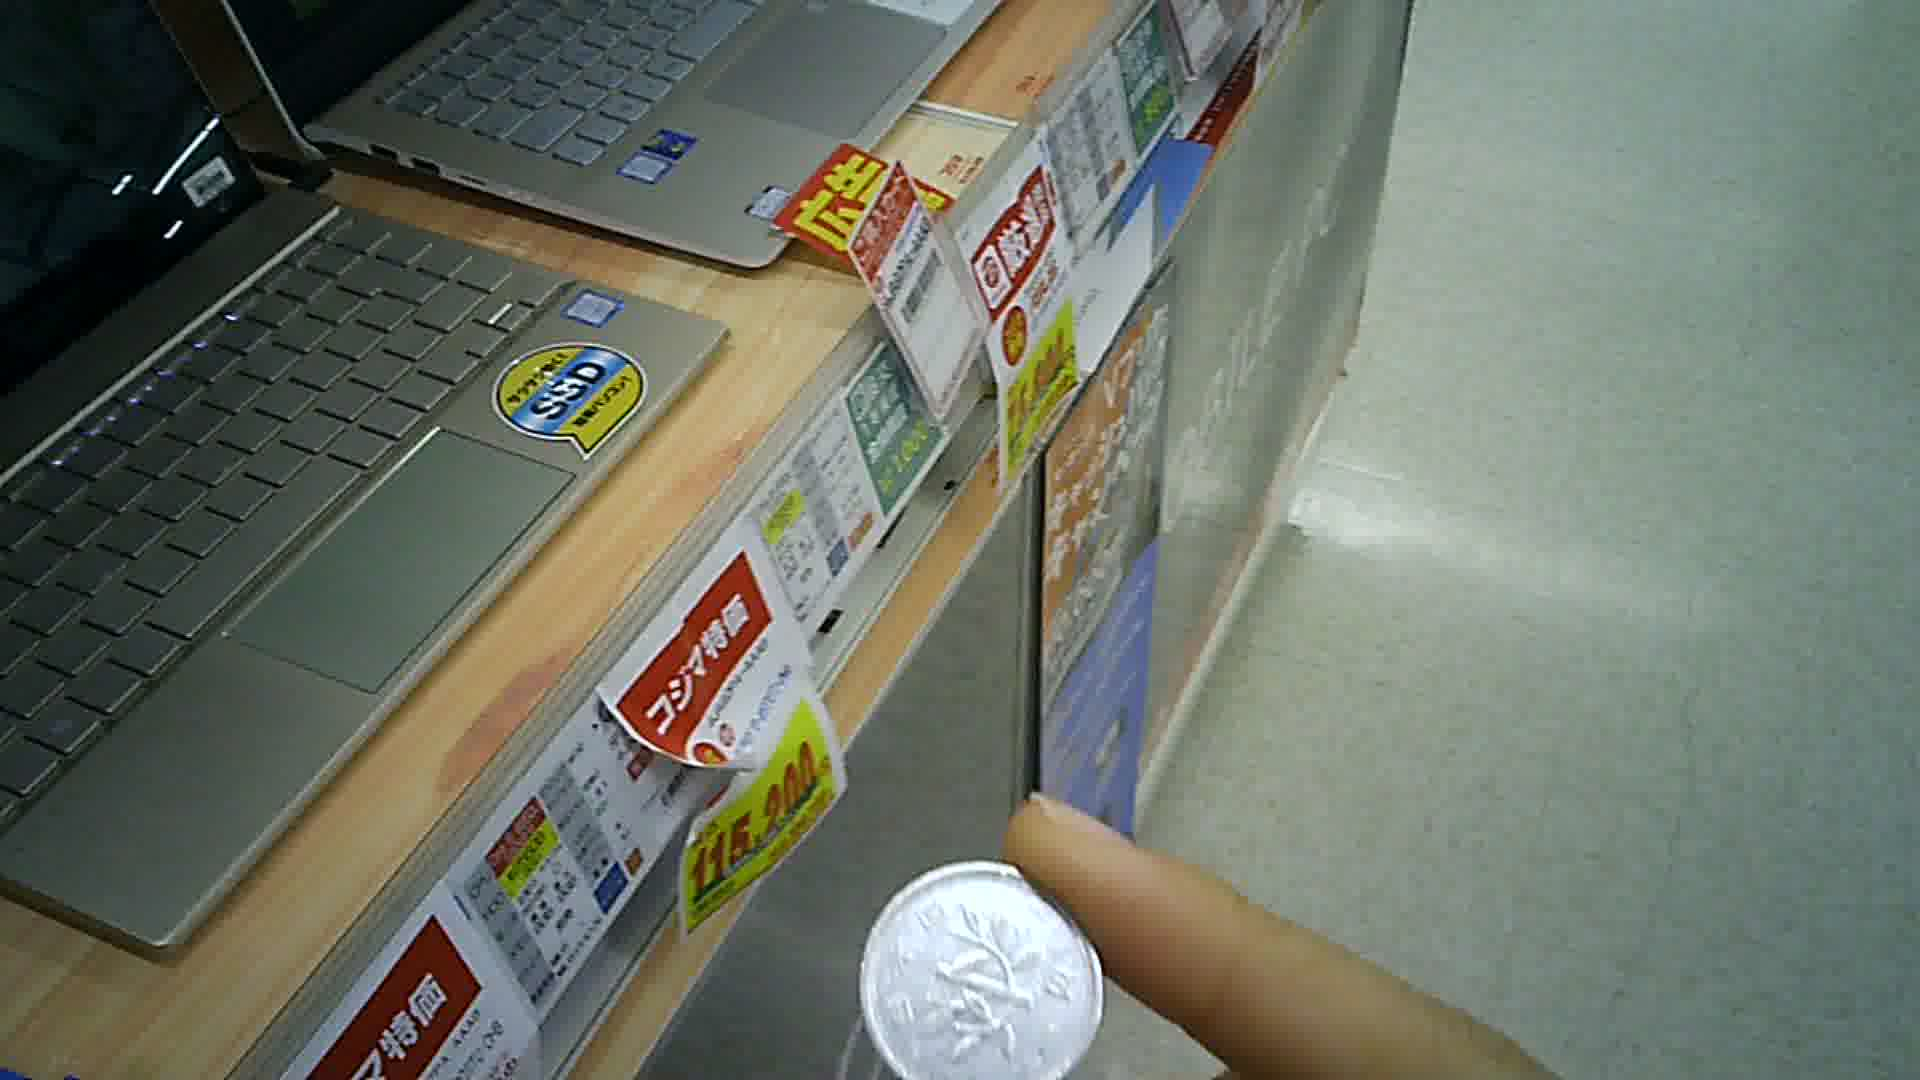1 Yen: (852, 855, 1116, 1075)
